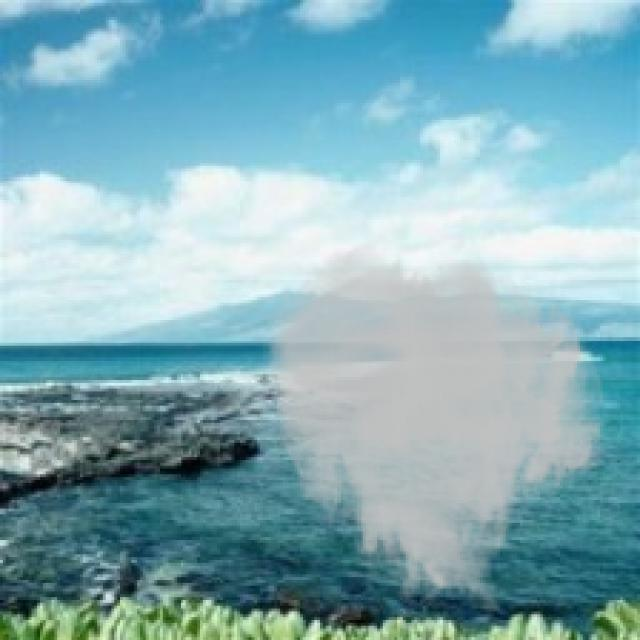smoke: (260, 240, 609, 617)
